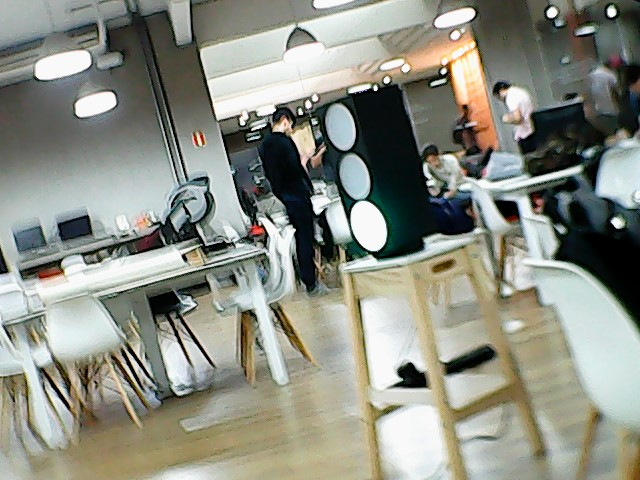verde: (311, 81, 436, 258)
